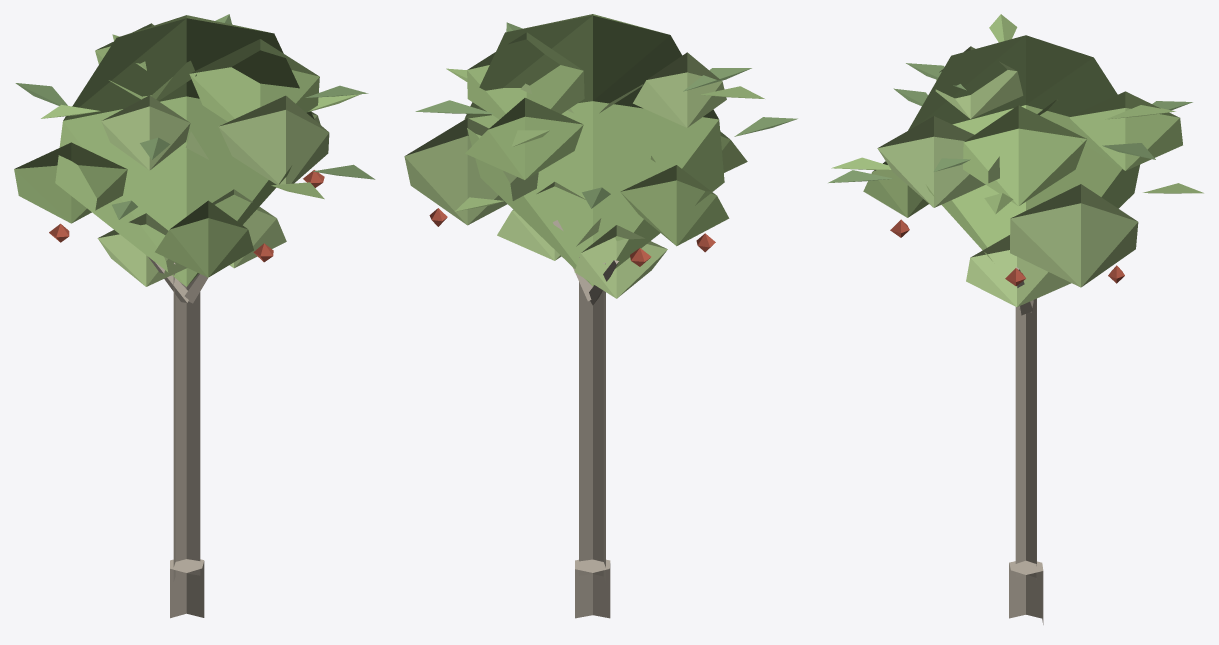
File: shu.baigan@fruiting__spring.glb
3 views of the same model, side by side, from view 1: azimuth 30°, elevation 25°; view 2: azimuth 150°, elevation 25°; view 3: azimuth 270°, elevation 25° (orthographic). The views are drawn at different scales.
Parts seen in each view (by area): view 1: shu.baigan@fruiting__spring; view 2: shu.baigan@fruiting__spring; view 3: shu.baigan@fruiting__spring.
Part boxes in pixels (x1=…): shu.baigan@fruiting__spring: x1=14, y1=14, x2=375, y2=618; shu.baigan@fruiting__spring: x1=404, y1=14, x2=797, y2=618; shu.baigan@fruiting__spring: x1=828, y1=14, x2=1203, y2=624.
Size of the model in its own units: 8.39 by 15.12 by 8.8.
